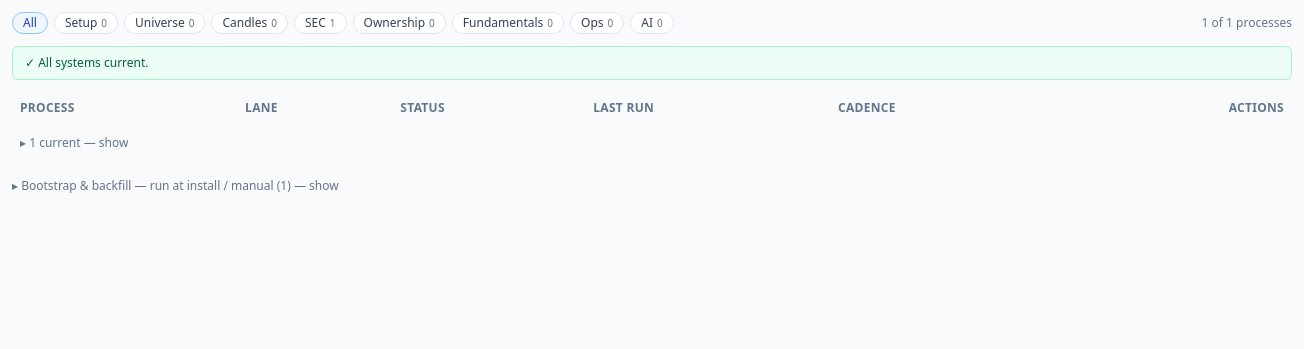
Test case: ProcessesTable › keeps the bootstrap row when status is unknown (fail-open)
Click the button "▸ 1 current — show" at (74, 143), box [20, 135, 128, 151]
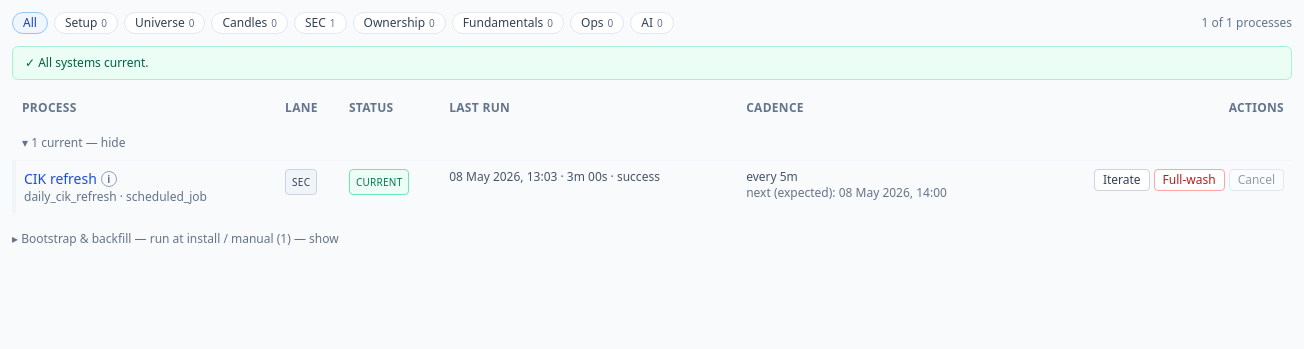
expect the link "First-install bootstrap" is not shown: met
expect the link "CIK refresh" is shown: met, box [24, 169, 97, 189]
Click the button "▸ Bootstrap & backfill — run at install / manual (1) — show" at (175, 239), box [12, 231, 339, 247]
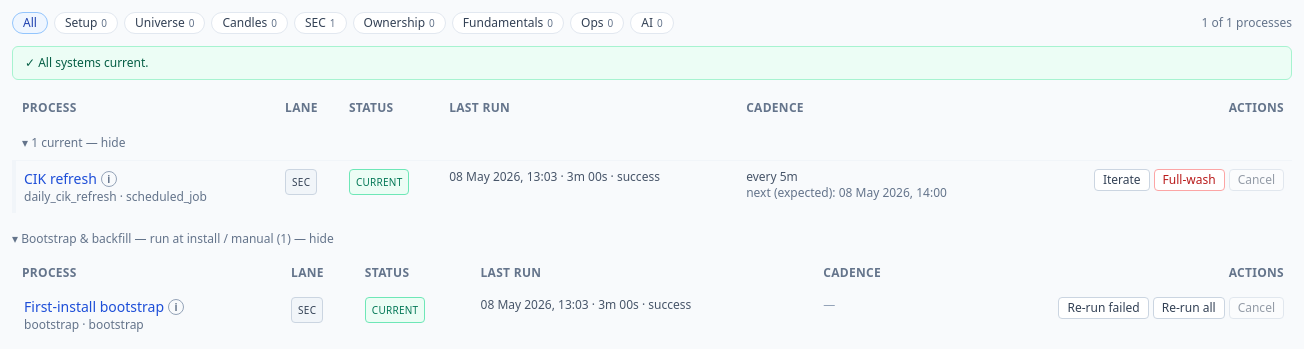
expect the link "First-install bootstrap" is shown: met, box [24, 297, 164, 317]
